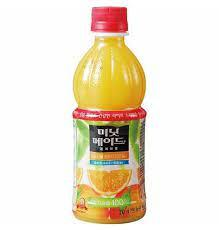minutemaid_org_orange: (64, 1, 157, 229)
